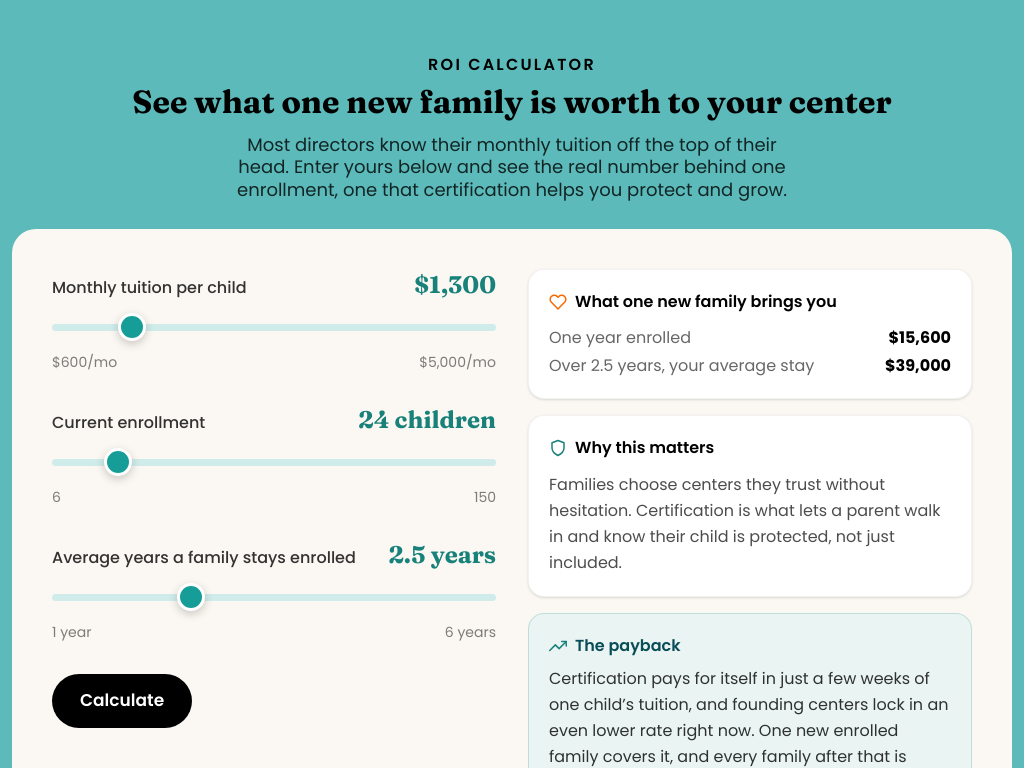
Test: RoiCalculator › updates the enrollment and years labels from the sliders
Set the slider named "Current enrollment" to "42" at (167, 462), box [52,448,496,476]
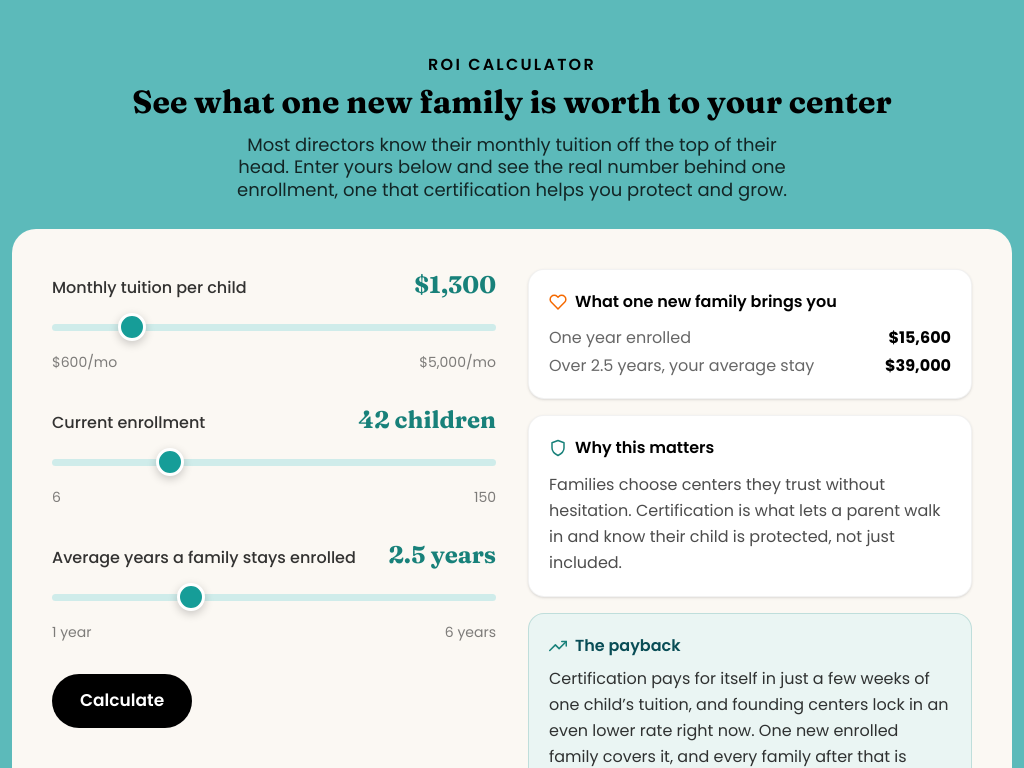
Set the slider named "Average years a family stays enrolled" to "4.5" at (360, 597), box [52,583,496,611]
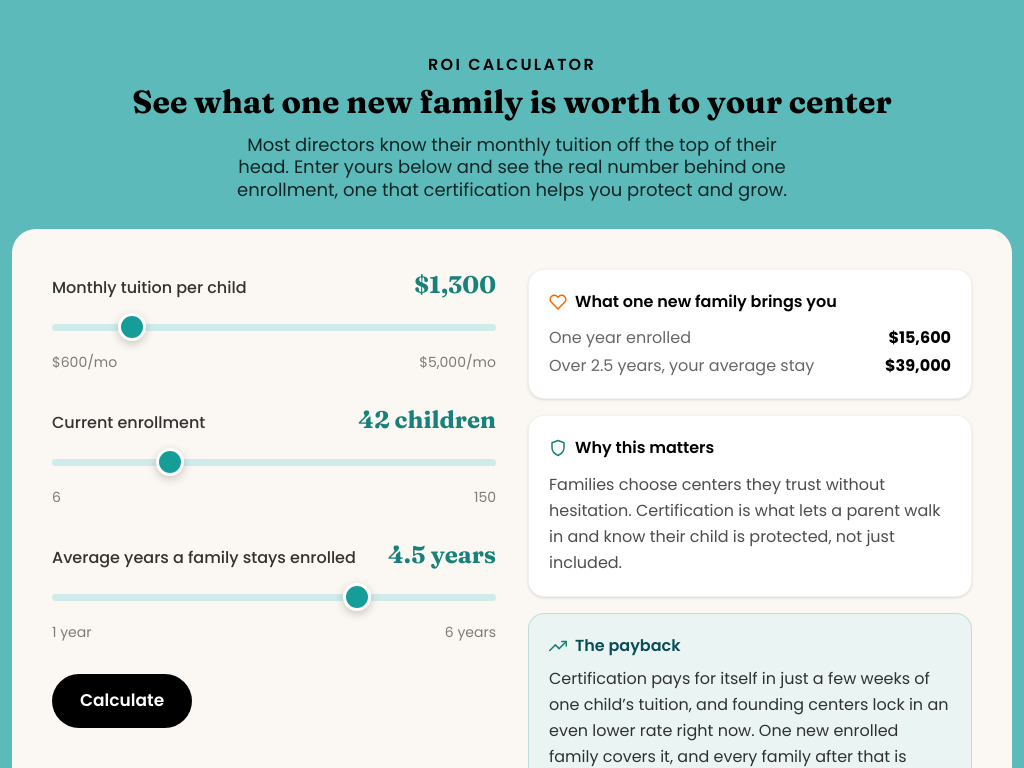
Now the text "42 children" is shown, box [358,404,496,436]
Now the text "4.5 years" is shown, box [388,539,496,571]
